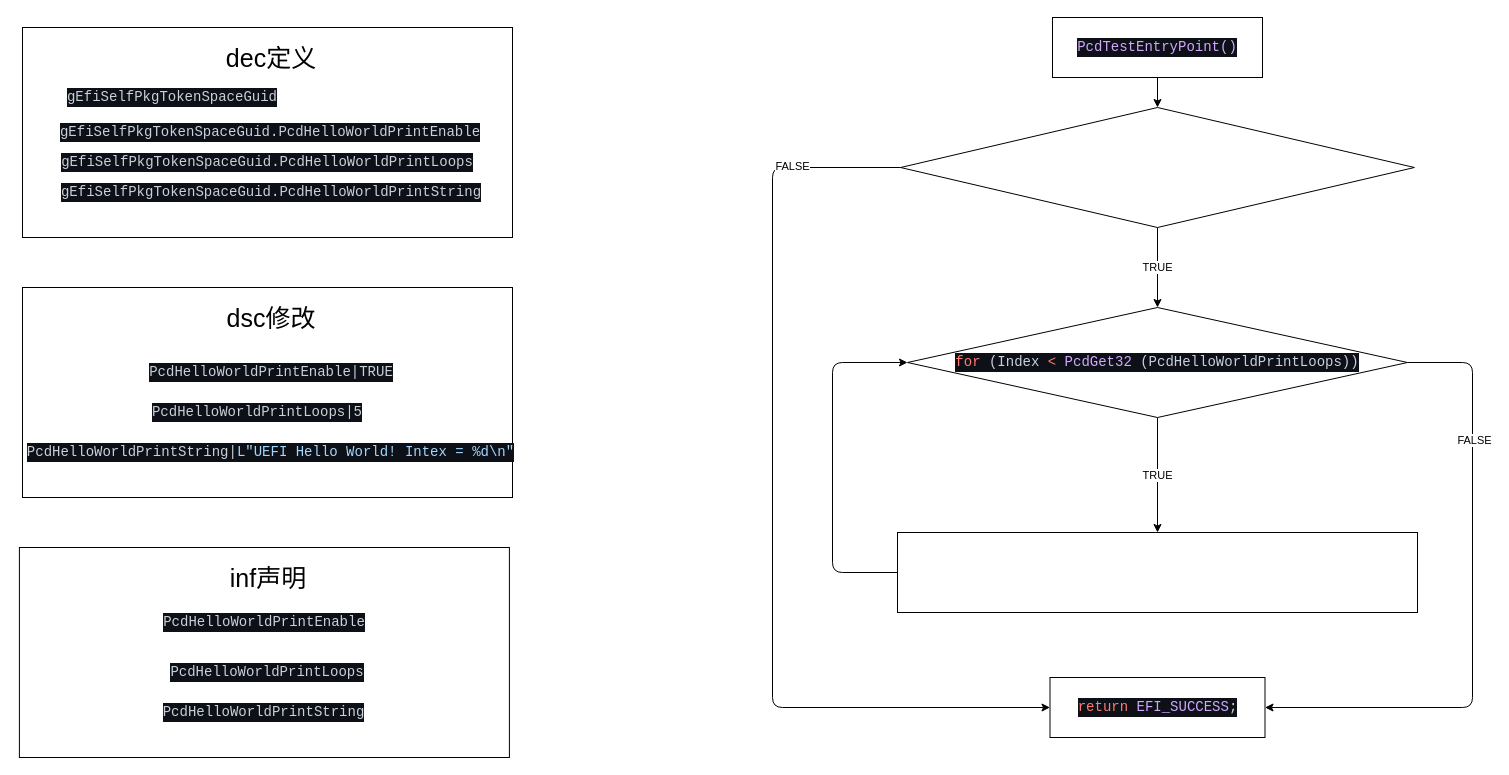
Image size: 1509x775. Some labels were removed from this diagram. Each missing label, with the box of its shape:
if ( FeaturePcdGet (PcdHelloWorldPrintEnable) == TRUE ): (900, 106, 1414, 228)
Print (( CHAR16 * ) PcdGetPtr (PcdHelloWorldPrintString), Index): (896, 532, 1418, 612)
